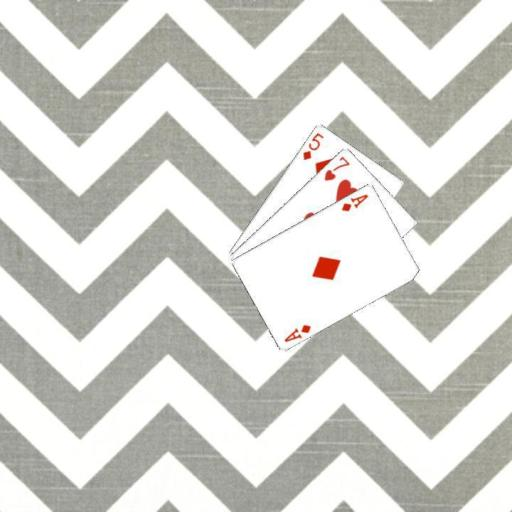card-corner: (321, 153, 351, 182), (299, 130, 325, 162), (281, 320, 312, 344), (338, 190, 370, 212)
